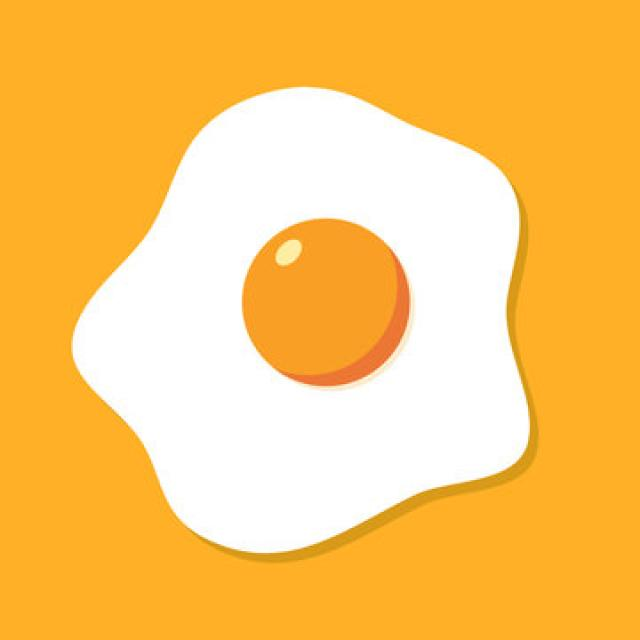Egg: (72, 88, 530, 552)
